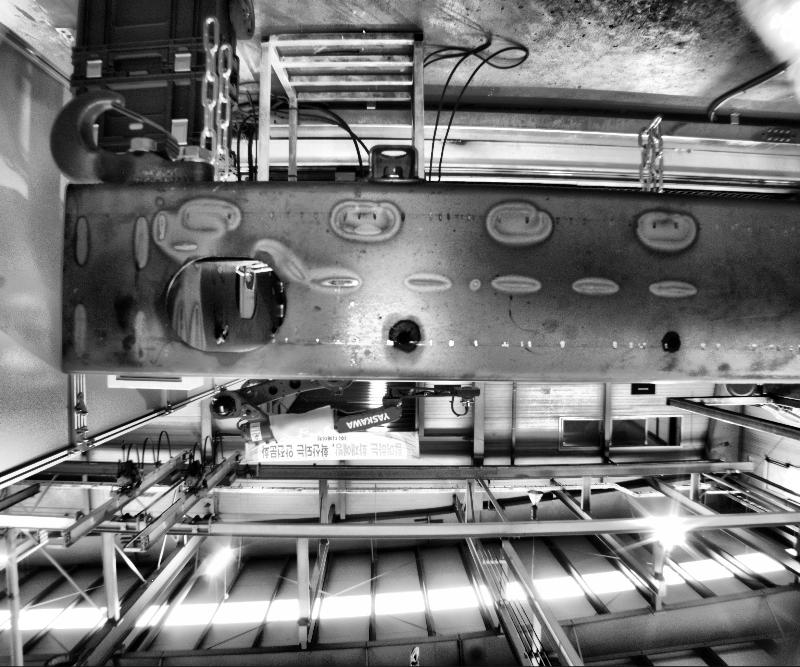hole: (157, 252, 288, 355), (667, 334, 679, 351), (396, 331, 410, 342)
